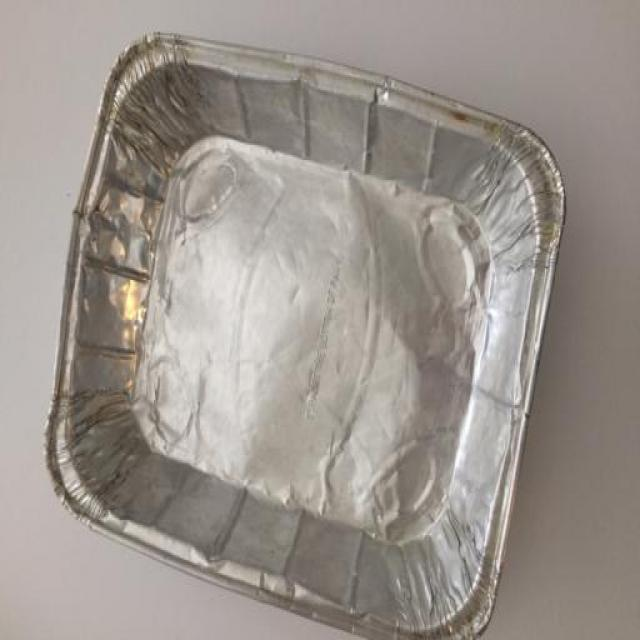food_waste: (39, 17, 604, 640)
